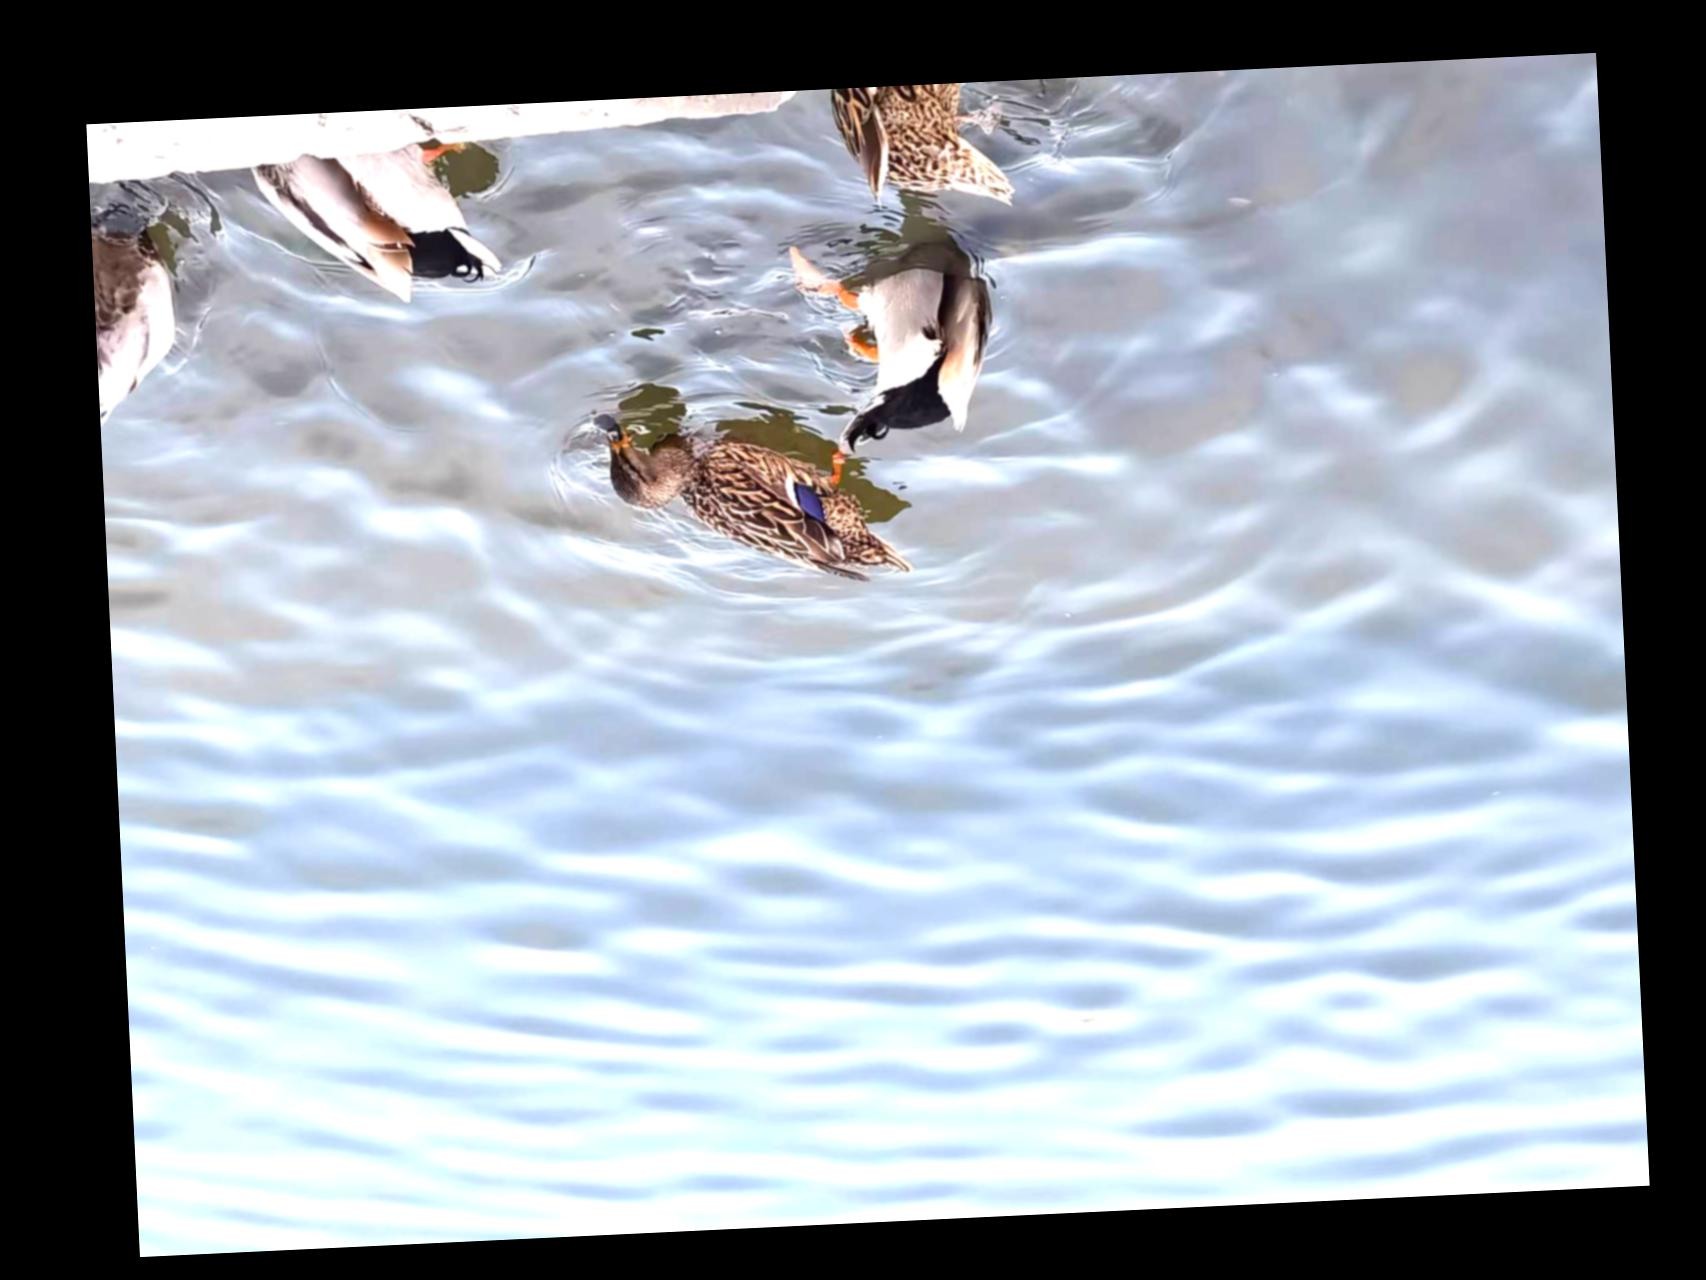duck: (594, 385, 924, 606), (788, 231, 1024, 471), (251, 143, 516, 307), (835, 78, 1032, 225), (90, 204, 194, 437)
